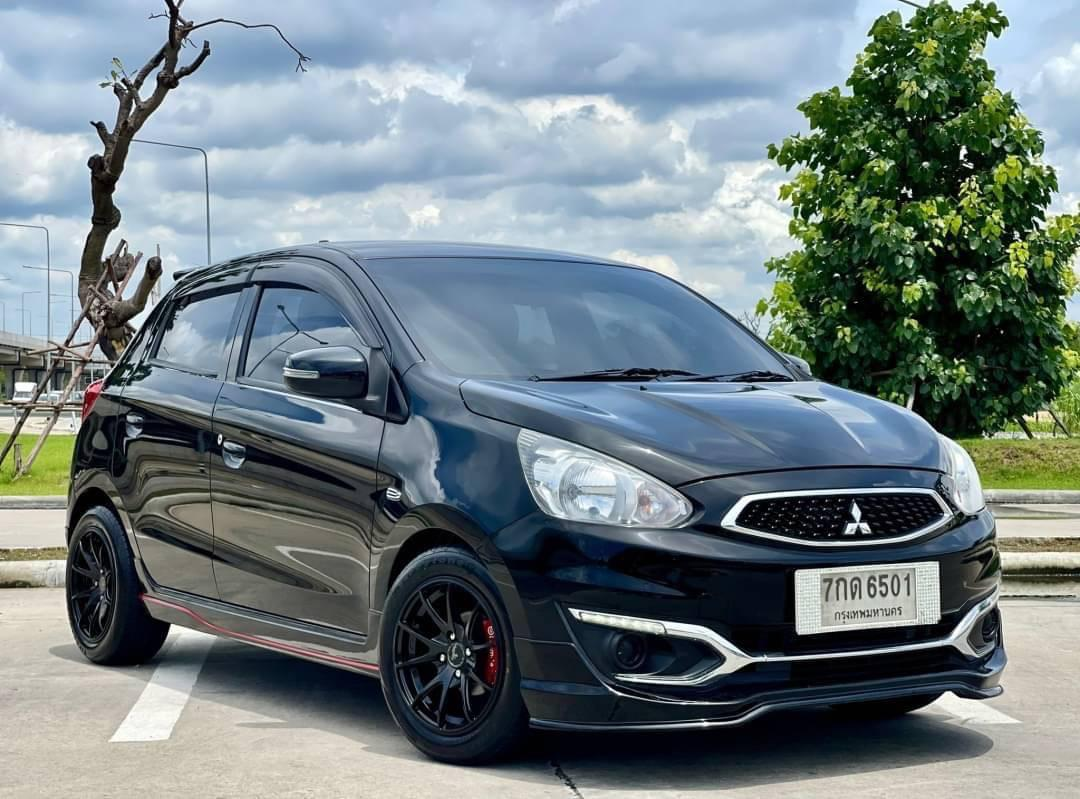license-plate: (816, 564, 920, 630)
